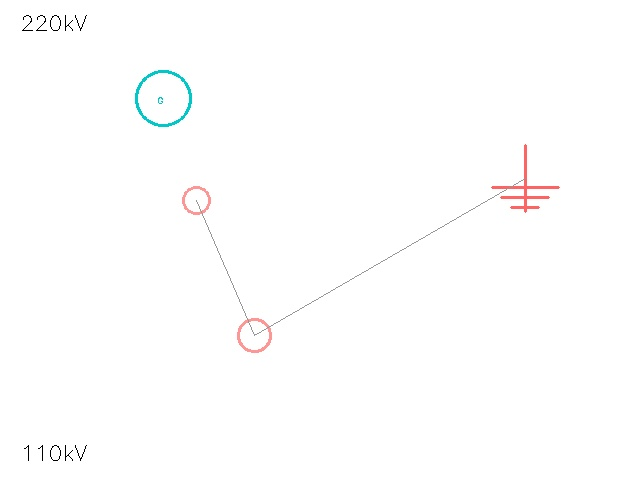current_transformer: (170, 174, 222, 226)
fuse: (222, 303, 286, 367)
generator: (136, 71, 190, 125)
ground: (492, 145, 558, 211)
